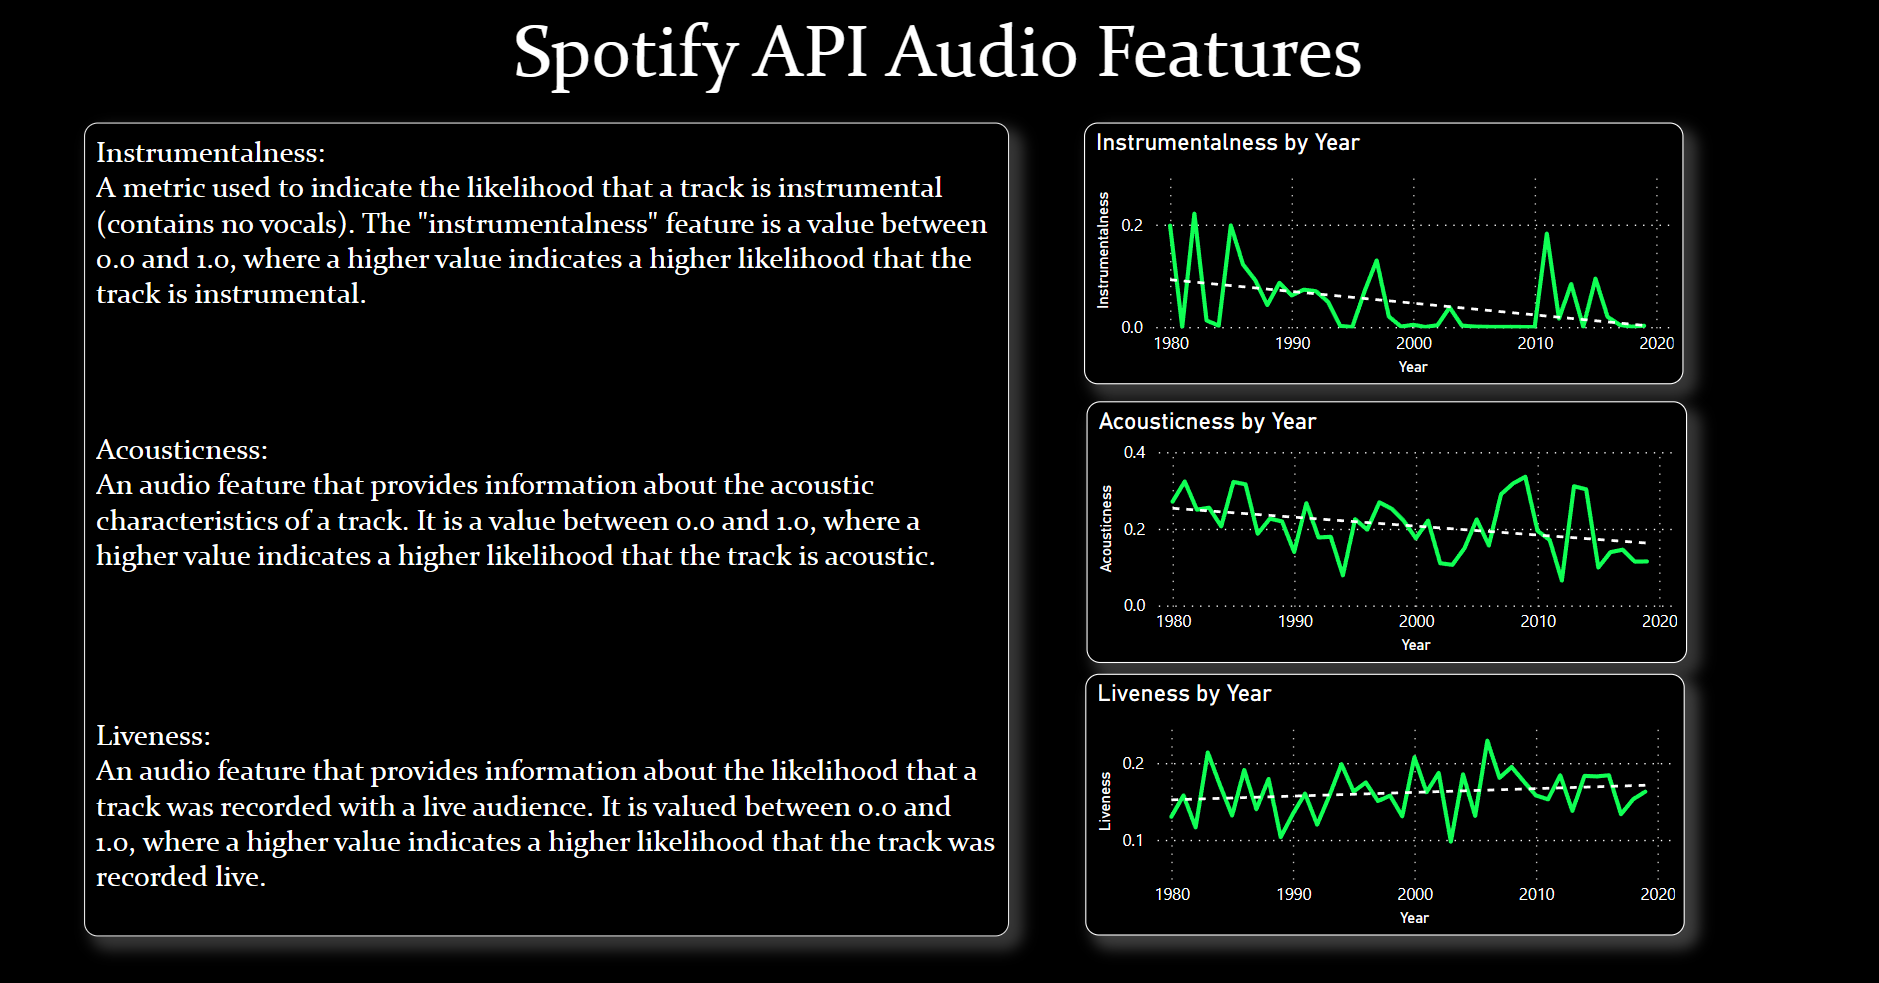

This screenshot's page, from the dashboard's own definition file:
{"tool":"powerbi","page":{"name":"Spotify API","canvas":[1280,720],"ordinal":1},"visuals":[{"type":"lineChart","fields":{"Category":["full_merge_cleaned.release_year"],"Y":["Avg(full_merge_cleaned.instrumentalness)"]},"box":[746.5,45.3,437.7,190.7],"z":1000},{"type":"textbox","box":[19.2,45.3,672.4,635.3],"z":2001},{"type":"lineChart","fields":{"Category":["full_merge_cleaned.release_year"],"Y":["Avg(full_merge_cleaned.acousticness)"]},"box":[746.5,264.8,436.4,190.7],"z":2002},{"type":"lineChart","fields":{"Category":["full_merge_cleaned.release_year"],"Y":["Avg(full_merge_cleaned.liveness)"]},"box":[746.5,489.9,436.4,190.7],"z":2003}]}

Visuals, with their boxes on the page's 1280x720 design canvas (x1, y1, x2, y2). These are canvas units, not pixel positions in the 1879x983 screenshot, which may show the page scaled, cropped or inside an application window:
lineChart - full_merge_cleaned.release_year x Avg(full_merge_cleaned.instrumentalness): x1=746, y1=45, x2=1184, y2=236
textbox: x1=19, y1=45, x2=692, y2=681
lineChart - full_merge_cleaned.release_year x Avg(full_merge_cleaned.acousticness): x1=746, y1=265, x2=1183, y2=456
lineChart - full_merge_cleaned.release_year x Avg(full_merge_cleaned.liveness): x1=746, y1=490, x2=1183, y2=681
